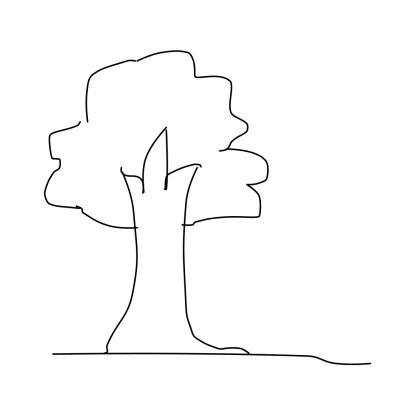branch_sharp: (118, 127, 201, 201)
crown_cloud: (45, 51, 270, 230)
root_none: (94, 329, 259, 396)
trunk_straight: (114, 241, 193, 328)
